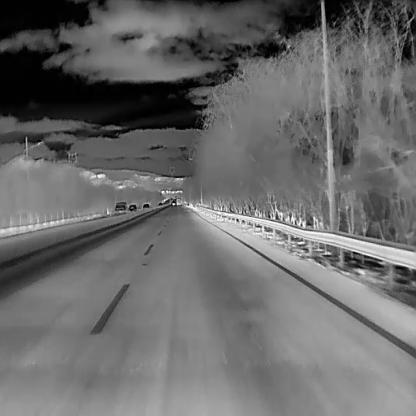bus: (176, 198, 181, 206)
car: (114, 200, 127, 214), (126, 203, 136, 212), (141, 202, 150, 209), (172, 202, 176, 206)
